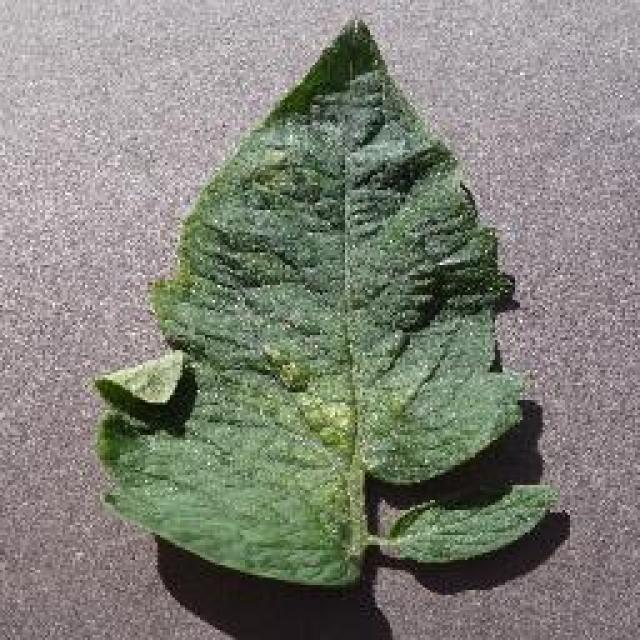Tomato spider mites leaf: (96, 19, 522, 584)
